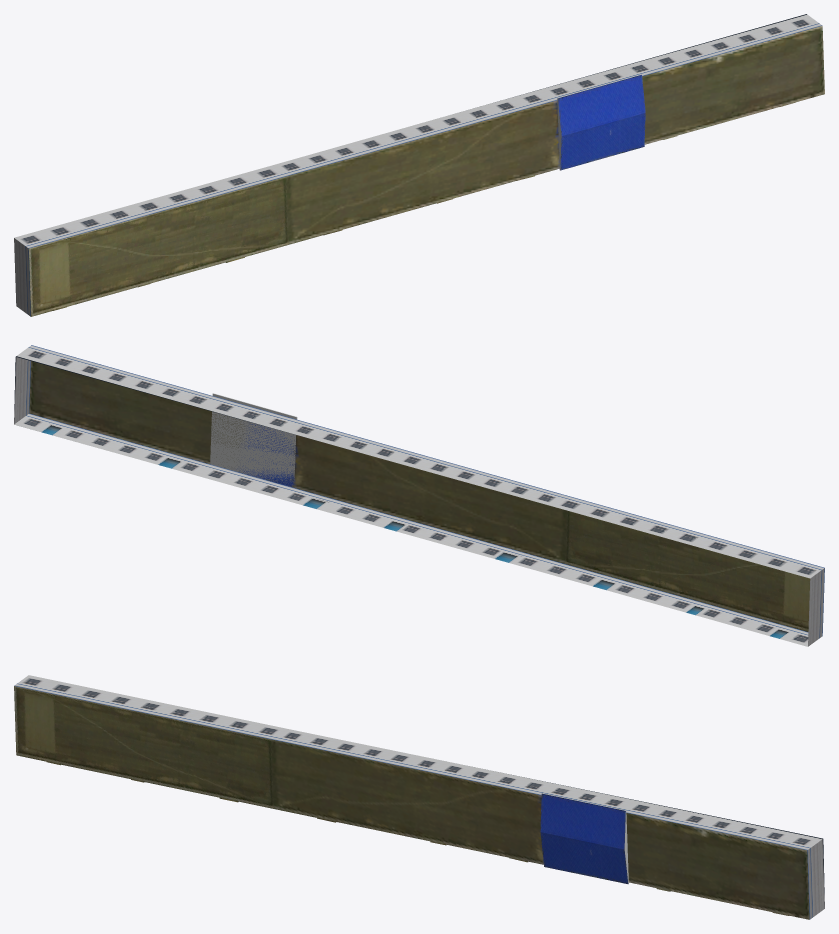
3 renders of one model, top to bottom at view 1: azimuth 30°, elevation 25°; view 2: azimuth 150°, elevation 25°; view 3: azimuth 330°, elevation 25°, orthographic.
Visible parts, largest first — view 1: Group_MatrixTransform_i94b006_Geometry_14, Group_MatrixTransform_i94b006_Geometry_13, Group_MatrixTransform_i94b006_Geometry_1, Group_MatrixTransform_i94b006_Geometry_12, Group_MatrixTransform_i94b006_Geometry_2; view 2: Group_MatrixTransform_i94b006_Geometry_14, Group_MatrixTransform_i94b006_Geometry_1, Group_MatrixTransform_i94b006_Geometry_13, Group_MatrixTransform_i94b006_Geometry_10, Group_MatrixTransform_i94b006_Geometry_0, Group_MatrixTransform_i94b006_Geometry_2; view 3: Group_MatrixTransform_i94b006_Geometry_14, Group_MatrixTransform_i94b006_Geometry_13, Group_MatrixTransform_i94b006_Geometry_1, Group_MatrixTransform_i94b006_Geometry_12, Group_MatrixTransform_i94b006_Geometry_2.
Boxes of the visible parts, x1,y1,x2,y2 form: Group_MatrixTransform_i94b006_Geometry_14: [286, 26, 824, 244]; Group_MatrixTransform_i94b006_Geometry_13: [28, 176, 288, 316]; Group_MatrixTransform_i94b006_Geometry_1: [14, 14, 822, 248]; Group_MatrixTransform_i94b006_Geometry_12: [557, 74, 645, 170]; Group_MatrixTransform_i94b006_Geometry_2: [14, 238, 30, 316]; Group_MatrixTransform_i94b006_Geometry_14: [29, 361, 566, 563]; Group_MatrixTransform_i94b006_Geometry_1: [14, 345, 824, 646]; Group_MatrixTransform_i94b006_Geometry_13: [565, 510, 810, 631]; Group_MatrixTransform_i94b006_Geometry_10: [49, 393, 791, 631]; Group_MatrixTransform_i94b006_Geometry_0: [39, 420, 795, 639]; Group_MatrixTransform_i94b006_Geometry_2: [14, 357, 824, 646]; Group_MatrixTransform_i94b006_Geometry_14: [271, 739, 809, 919]; Group_MatrixTransform_i94b006_Geometry_13: [14, 686, 273, 808]; Group_MatrixTransform_i94b006_Geometry_1: [14, 675, 822, 850]; Group_MatrixTransform_i94b006_Geometry_12: [540, 793, 628, 883]; Group_MatrixTransform_i94b006_Geometry_2: [807, 839, 824, 919].
Bounding box in the file's own units: 149 × 18.2 × 6.17.
15 materials, 15 textured.
